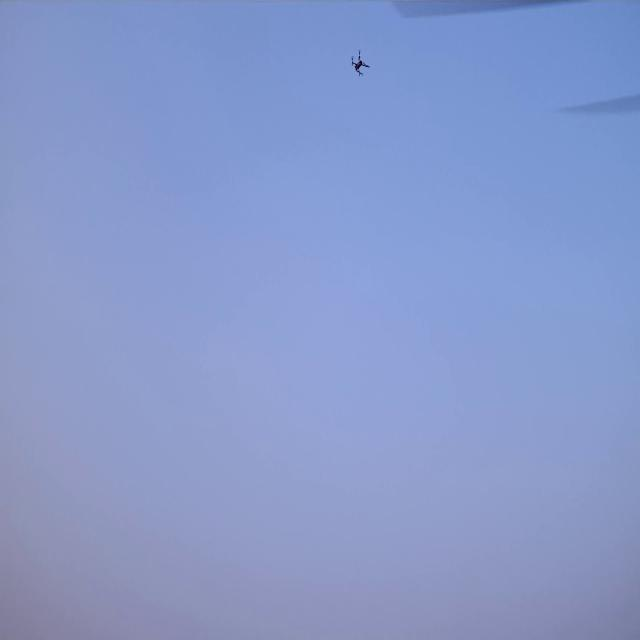UAV: (352, 52, 368, 76)
